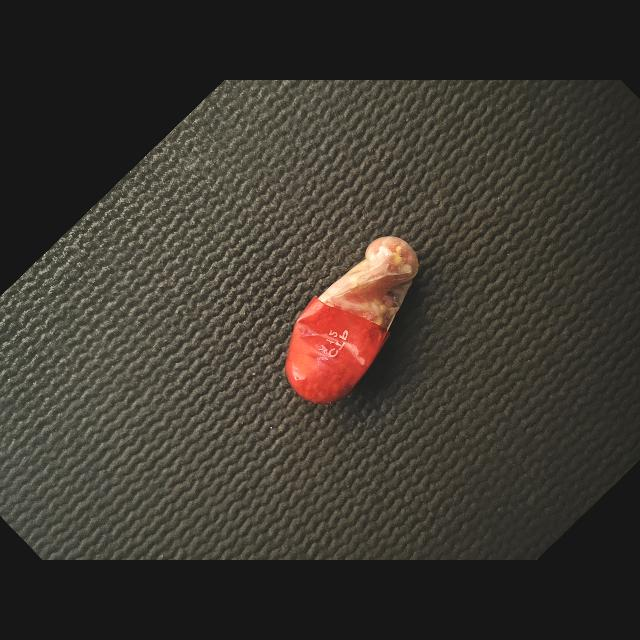Defective Capsule: (285, 236, 418, 403)
